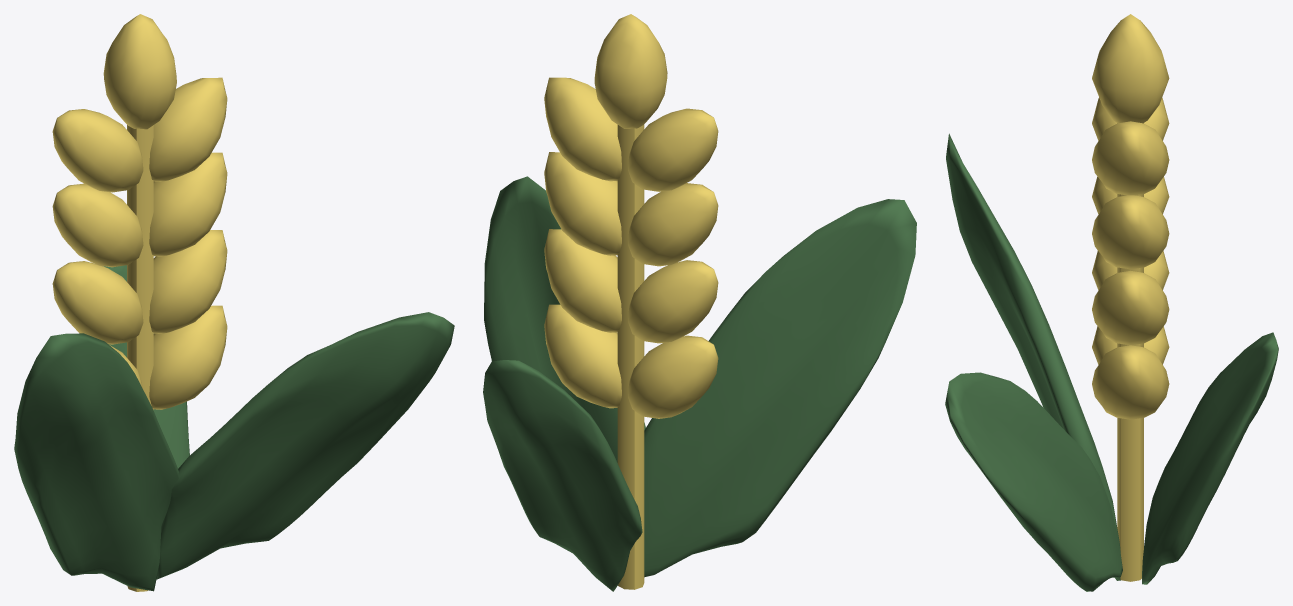
File: wheat.fbx
3 renders of one model, left to right at view 1: azimuth 30°, elevation 25°; view 2: azimuth 150°, elevation 25°; view 3: azimuth 270°, elevation 25°, orthographic.
Visible parts, largest first — view 1: wheat_leaf, wheat_leaf1, wheat_kernel, wheat_kernel7, wheat_kernel1, wheat_kernel2, wheat_kernel3, wheat_kernel6, wheat_kernel8, wheat_kernel5, wheat_stalk, wheat_leaf3; view 2: wheat_leaf1, wheat_leaf3, wheat_leaf, wheat_stalk, wheat_kernel, wheat_kernel7, wheat_kernel1, wheat_kernel3, wheat_kernel4, wheat_kernel2, wheat_kernel6, wheat_kernel8 (+1 smaller); view 3: wheat_leaf, wheat_leaf3, wheat_leaf1, wheat_kernel, wheat_kernel5, wheat_kernel6, wheat_kernel7, wheat_kernel8, wheat_stalk, wheat_kernel3, wheat_kernel1, wheat_kernel4 (+1 smaller).
Part boxes in pixels (bbox=[...]): wheat_leaf: bbox=[156, 312, 454, 579]; wheat_leaf1: bbox=[14, 333, 178, 591]; wheat_kernel: bbox=[103, 14, 176, 129]; wheat_kernel7: bbox=[149, 77, 227, 181]; wheat_kernel1: bbox=[52, 109, 143, 192]; wheat_kernel2: bbox=[52, 183, 143, 267]; wheat_kernel3: bbox=[52, 261, 143, 344]; wheat_kernel6: bbox=[149, 230, 227, 333]; wheat_kernel8: bbox=[149, 305, 227, 409]; wheat_kernel5: bbox=[149, 152, 227, 256]; wheat_stalk: bbox=[127, 125, 153, 591]; wheat_leaf3: bbox=[104, 265, 189, 468]; wheat_leaf1: bbox=[644, 199, 916, 577]; wheat_leaf3: bbox=[483, 360, 642, 591]; wheat_leaf: bbox=[484, 176, 645, 462]; wheat_stalk: bbox=[617, 124, 644, 589]; wheat_kernel: bbox=[594, 14, 667, 128]; wheat_kernel7: bbox=[544, 77, 621, 181]; wheat_kernel1: bbox=[628, 108, 718, 191]; wheat_kernel3: bbox=[628, 260, 718, 343]; wheat_kernel4: bbox=[628, 335, 718, 418]; wheat_kernel2: bbox=[628, 183, 718, 266]; wheat_kernel6: bbox=[544, 229, 621, 332]; wheat_kernel8: bbox=[544, 304, 621, 408]; wheat_leaf: bbox=[945, 372, 1122, 591]; wheat_leaf3: bbox=[1142, 332, 1278, 584]; wheat_leaf1: bbox=[946, 133, 1120, 580]; wheat_kernel: bbox=[1092, 14, 1169, 123]; wheat_kernel5: bbox=[1092, 195, 1169, 269]; wheat_kernel6: bbox=[1092, 270, 1169, 345]; wheat_kernel7: bbox=[1092, 121, 1169, 195]; wheat_kernel8: bbox=[1092, 345, 1169, 419]; wheat_stalk: bbox=[1117, 123, 1143, 581]; wheat_kernel3: bbox=[1092, 250, 1169, 290]; wheat_kernel1: bbox=[1092, 97, 1169, 140]; wheat_kernel4: bbox=[1092, 326, 1169, 364].
Size of the model in its own units: 107 by 138 by 73.65.
